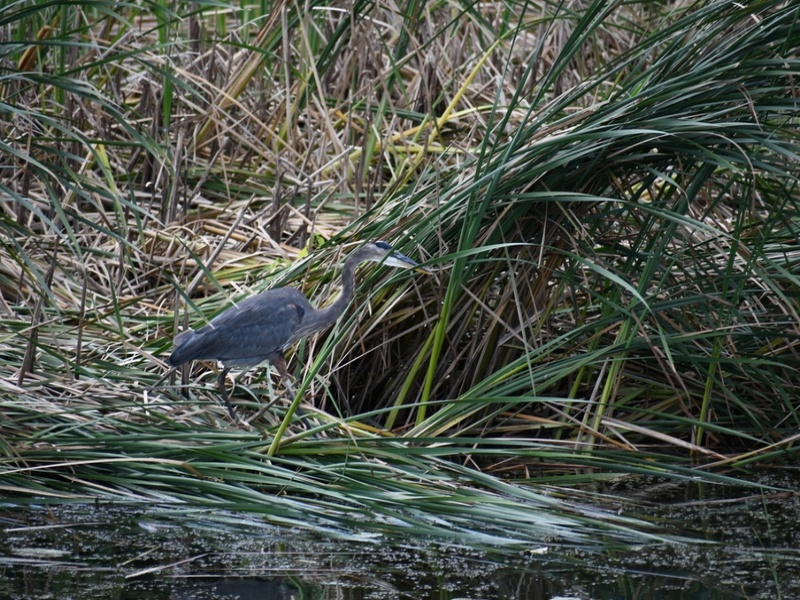heron: (167, 239, 437, 430)
